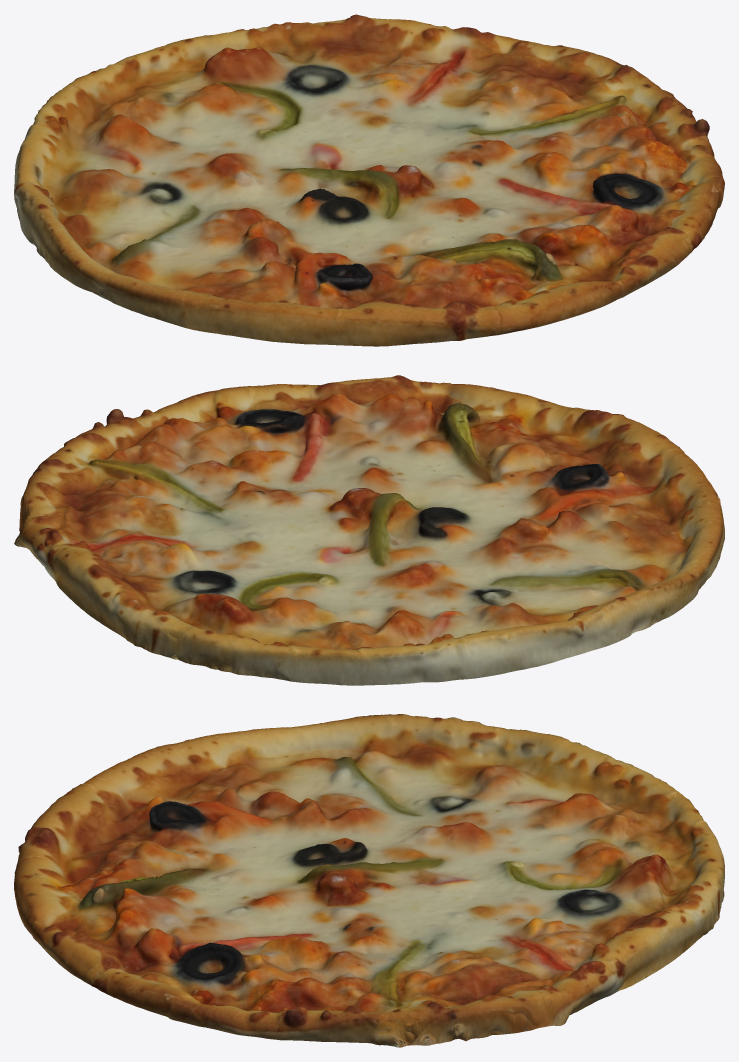
Rendered from pizza.glb.
3 views of the same model, one above another, from view 1: azimuth 30°, elevation 25°; view 2: azimuth 150°, elevation 25°; view 3: azimuth 270°, elevation 25° (orthographic).
Visible parts, largest first — view 1: 3DModel_Custom_0; view 2: 3DModel_Custom_0; view 3: 3DModel_Custom_0.
Boxes of the visible parts, x1,y1,x2,y2 form: 3DModel_Custom_0: [14, 14, 724, 346]; 3DModel_Custom_0: [14, 375, 724, 685]; 3DModel_Custom_0: [14, 714, 724, 1047].
Bounding box in the file's own units: 0.9636 × 0.0624 × 0.9493.
Materials: 1 (1 with a texture image).
